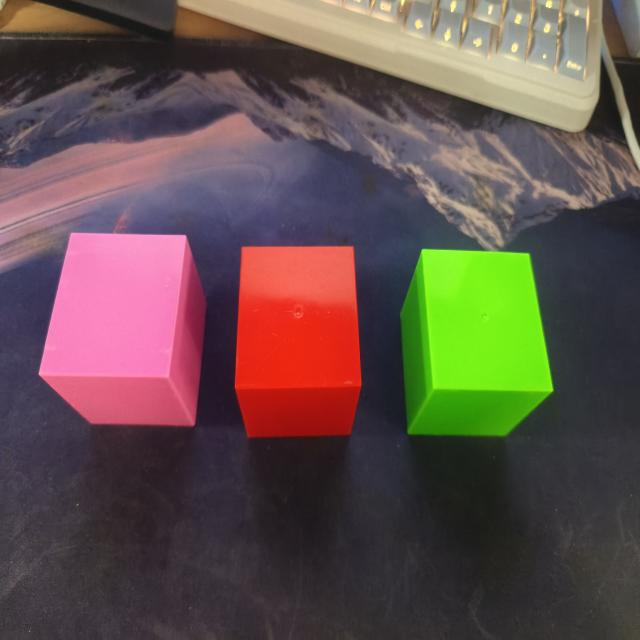green: (399, 249, 555, 439)
pink: (38, 232, 207, 431)
red: (233, 246, 362, 442)
